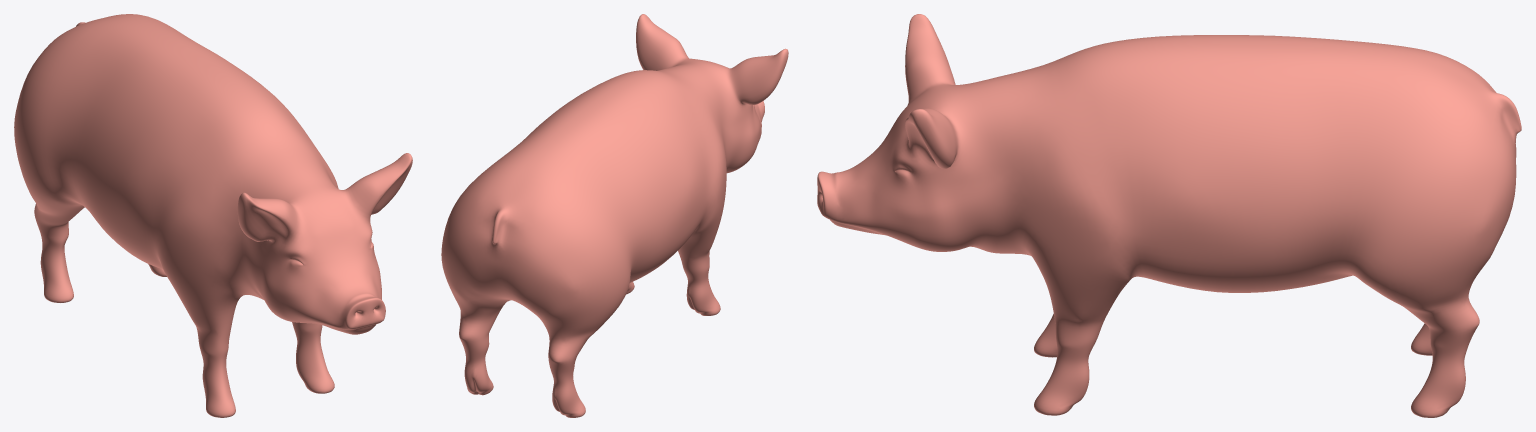
File: Swinka2.glb
3 views of the same model, side by side, from view 1: azimuth 30°, elevation 25°; view 2: azimuth 150°, elevation 25°; view 3: azimuth 270°, elevation 25° (orthographic). The views are drawn at different scales.
Parts seen in each view (by area): view 1: 16433_Pig; view 2: 16433_Pig; view 3: 16433_Pig.
Boxes of the visible parts, bbox=[...] form: 16433_Pig: bbox=[14, 14, 412, 417]; 16433_Pig: bbox=[441, 14, 788, 417]; 16433_Pig: bbox=[817, 14, 1521, 417].
Bounding box in the file's own units: 0.6214 × 0.8862 × 1.67.
